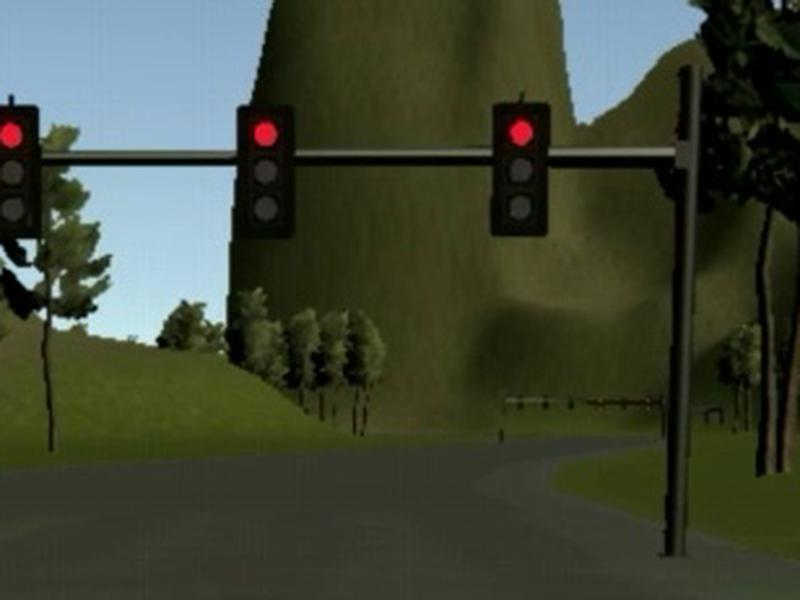Red: (233, 106, 294, 240), (491, 102, 549, 236), (1, 104, 42, 235)
